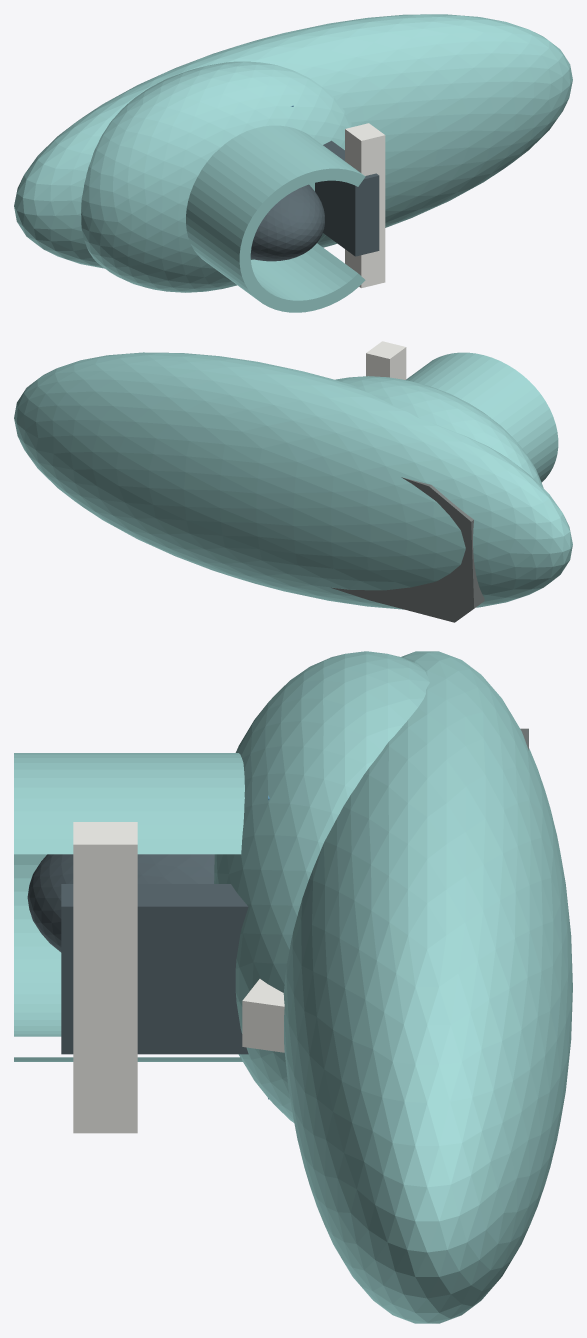
Rendered from supra.glb.
The picture shows the model from 3 angles, top to bottom: view 1: azimuth 30°, elevation 25°; view 2: azimuth 150°, elevation 25°; view 3: azimuth 270°, elevation 25°; orthographic projection. The views are drawn at different scales.
Parts seen in each view (by area): view 1: smo_component_02, smo_component_03, smo_component_09, smo_component_11, smo_component_10, smo_component_12; view 2: smo_component_02, smo_component_09, smo_component_03, smo_component_00, smo_component_12; view 3: smo_component_02, smo_component_03, smo_component_09, smo_component_12, smo_component_11, smo_component_10, smo_component_13.
Boxes of the visible parts, x1,y1,x2,y2 form: smo_component_02: (14, 14, 572, 268); smo_component_03: (81, 61, 352, 292); smo_component_09: (186, 125, 365, 312); smo_component_11: (315, 140, 379, 256); smo_component_10: (250, 184, 324, 261); smo_component_12: (345, 123, 385, 288); smo_component_02: (14, 352, 572, 609); smo_component_09: (406, 352, 558, 482); smo_component_03: (335, 376, 543, 487); smo_component_00: (331, 477, 484, 622); smo_component_12: (366, 341, 406, 379); smo_component_02: (283, 651, 572, 1323); smo_component_03: (214, 651, 429, 1122); smo_component_09: (14, 753, 244, 1061); smo_component_12: (73, 822, 137, 1133); smo_component_11: (61, 884, 248, 1054); smo_component_10: (27, 854, 214, 952); smo_component_13: (242, 979, 284, 1052).
Bounding box in the file's own units: 3.7 × 1.36 × 1.65.
